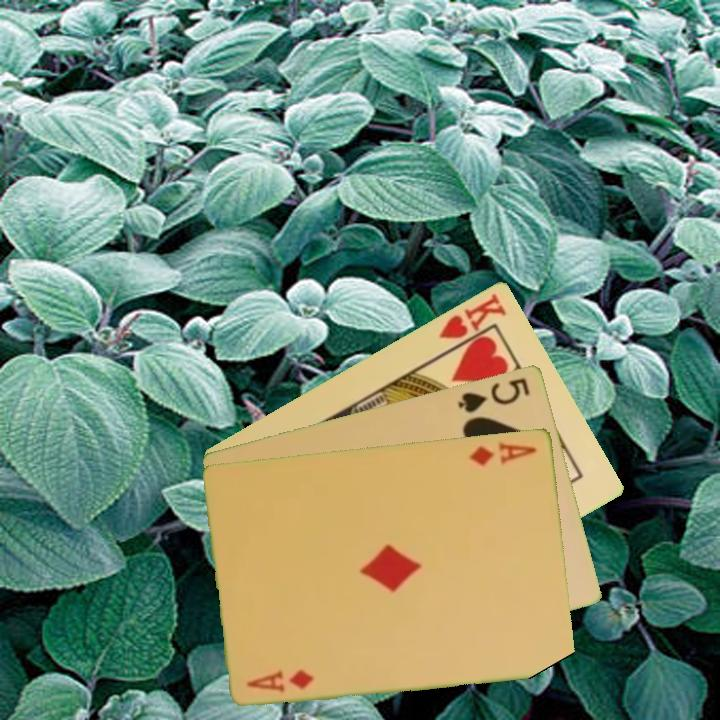5s: (454, 373, 533, 415)
Ad: (466, 439, 540, 469), (244, 666, 318, 695)
Kh: (435, 289, 510, 355)
